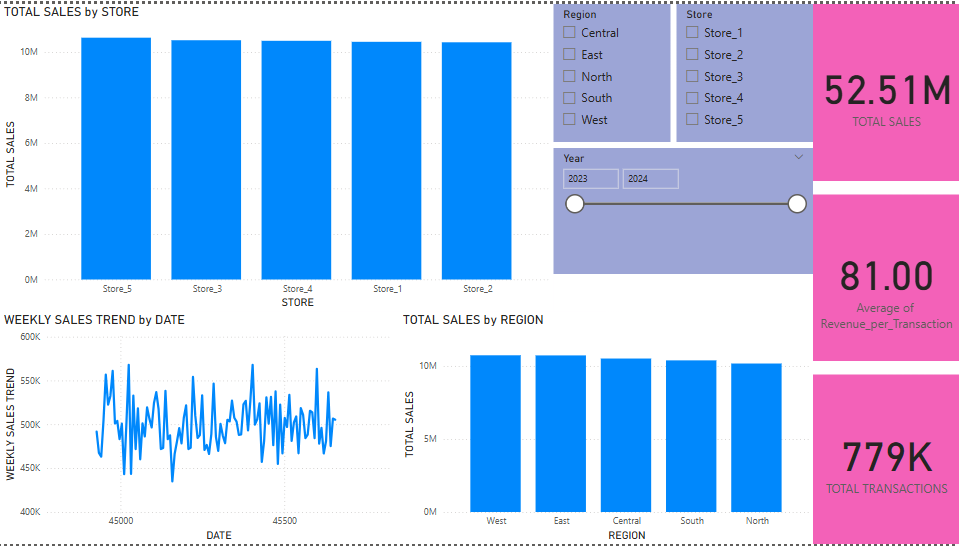

What the dashboard file says about the page in this screenshot:
{"tool":"powerbi","page":{"name":"Page 1","canvas":[1280,720],"ordinal":0},"visuals":[{"type":"clusteredColumnChart","fields":{"Category":["Sheet1.Store"],"Y":["Sum(Sheet1.Weekly_Sales)"]},"box":[0,0,738,410],"z":0},{"type":"clusteredColumnChart","fields":{"Category":["Sheet1.Region"],"Y":["Sum(Sheet1.Weekly_Sales)"]},"box":[532,410,552,310],"z":1000},{"type":"lineChart","fields":{"Category":["Sheet1.Date"],"Y":["Sum(Sheet1.Weekly_Sales)"]},"box":[0,410,532,310],"z":2000},{"type":"slicer","fields":{"Values":["Sheet1.Store"]},"box":[902,0,186,184],"z":7000},{"type":"slicer","fields":{"Values":["Sheet1.Region"]},"box":[738,0,156,184],"z":8000},{"type":"slicer","fields":{"Values":["Sheet1.Year"]},"box":[738,192,346,168],"z":9000},{"type":"card","fields":{"Values":["Sum(Sheet1.Weekly_Sales)"]},"box":[1084,0,196,236],"z":9001},{"type":"card","fields":{"Values":["Sum(Sheet1.Transactions)"]},"box":[1084,494,196,226],"z":9002},{"type":"card","fields":{"Values":["Avg(Sheet1.Revenue_per_Transaction)"]},"box":[1084,254,196,222],"z":9003}]}

Visuals, with their boxes in screenshot pixels (x1, y1, x2, y2), scaled from the page's 1280x720 canvas onto the 959x546 screenshot:
clusteredColumnChart - Sheet1.Store x Sum(Sheet1.Weekly_Sales): left=0, top=0, right=553, bottom=311
clusteredColumnChart - Sheet1.Region x Sum(Sheet1.Weekly_Sales): left=399, top=311, right=812, bottom=545
lineChart - Sheet1.Date x Sum(Sheet1.Weekly_Sales): left=0, top=311, right=399, bottom=545
slicer - Sheet1.Store: left=676, top=0, right=815, bottom=140
slicer - Sheet1.Region: left=553, top=0, right=670, bottom=140
slicer - Sheet1.Year: left=553, top=146, right=812, bottom=273
card - Sum(Sheet1.Weekly_Sales): left=812, top=0, right=958, bottom=179
card - Sum(Sheet1.Transactions): left=812, top=375, right=958, bottom=545
card - Avg(Sheet1.Revenue_per_Transaction): left=812, top=193, right=958, bottom=361
